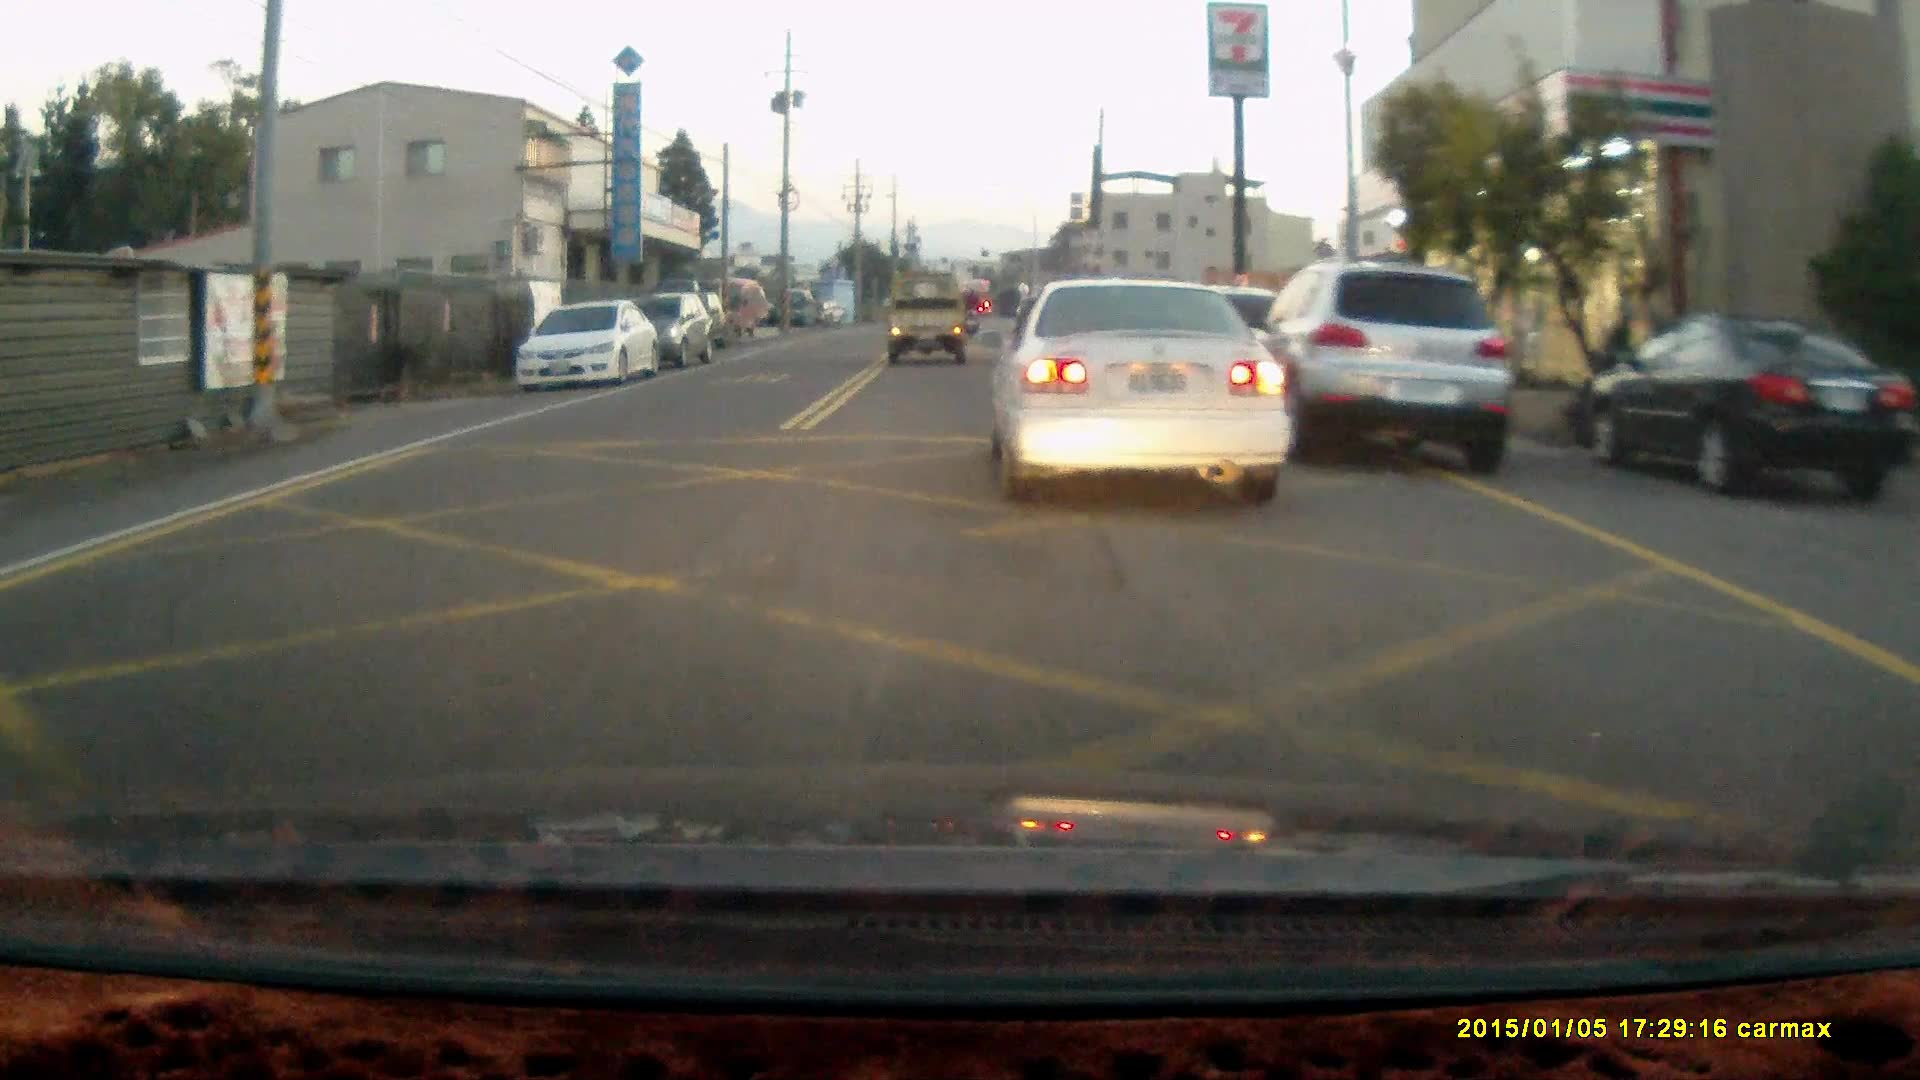rider: (957, 285, 983, 337)
vehicle: (985, 276, 1290, 496), (1575, 317, 1911, 498), (1240, 263, 1520, 478), (508, 295, 665, 393), (882, 277, 970, 366), (627, 295, 709, 372)
